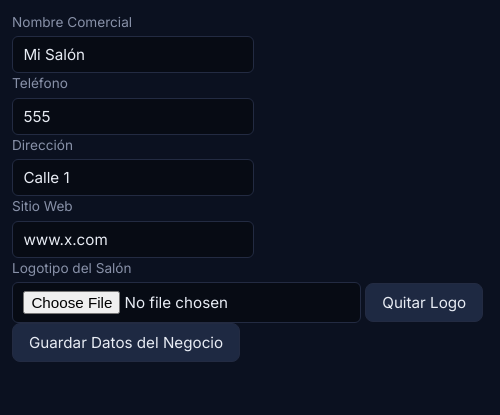
Test: BusinessTab › si el logo falla al subir, muestra ese error en vez del éxito
The width and height of the screenshot is (500, 415).
Click the button "Guardar Datos del Negocio" at x=126, y=342, box left=12, top=323, right=240, bottom=362
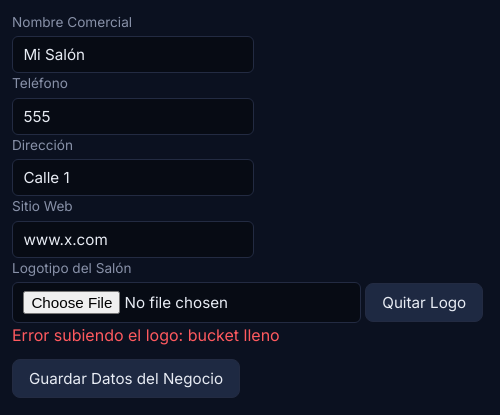
Now the message reads "Error subiendo el logo: bucket lleno", box left=12, top=325, right=280, bottom=345
